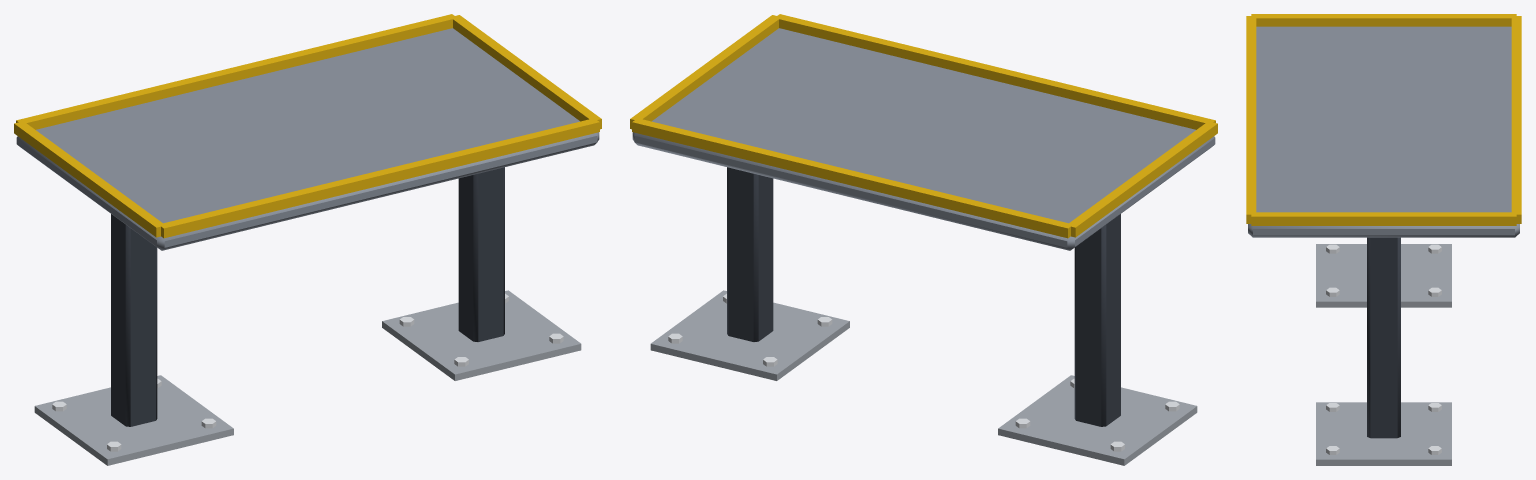
The model's file is table_bolted_table.glb.
The picture shows the model from 3 angles, left to right: view 1: azimuth 30°, elevation 25°; view 2: azimuth 150°, elevation 25°; view 3: azimuth 270°, elevation 25°; orthographic projection. The views are drawn at different scales.
Parts seen in each view (by area): view 1: table_bolted_table; view 2: table_bolted_table; view 3: table_bolted_table.
Boxes of the visible parts, x1=… form: table_bolted_table: x1=14, y1=14, x2=601, y2=465; table_bolted_table: x1=630, y1=14, x2=1217, y2=465; table_bolted_table: x1=1246, y1=14, x2=1521, y2=465.
Size of the model in its own units: 1.5 by 0.787 by 0.81.
